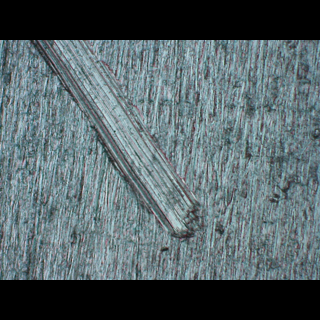d: (25, 40, 204, 244)
